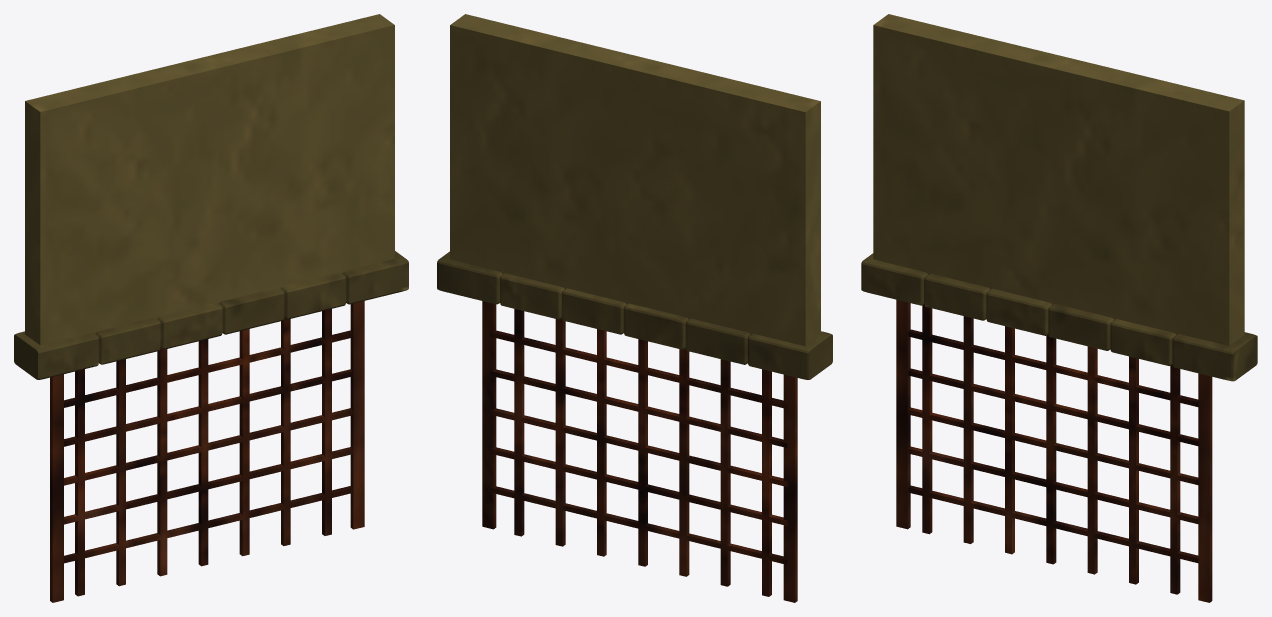
File: Wall_5.fbx
3 renders of one model, left to right at view 1: azimuth 30°, elevation 25°; view 2: azimuth 150°, elevation 25°; view 3: azimuth 330°, elevation 25°, orthographic.
Visible parts, largest first — view 1: Wall_5; view 2: Wall_5; view 3: Wall_5.
Part boxes in pixels (bbox=[...]): Wall_5: bbox=[14, 14, 408, 602]; Wall_5: bbox=[437, 14, 832, 602]; Wall_5: bbox=[861, 14, 1257, 602].
Bounding box in the file's own units: 643 × 828 × 74.99.
Materials: 2 (2 with a texture image).
